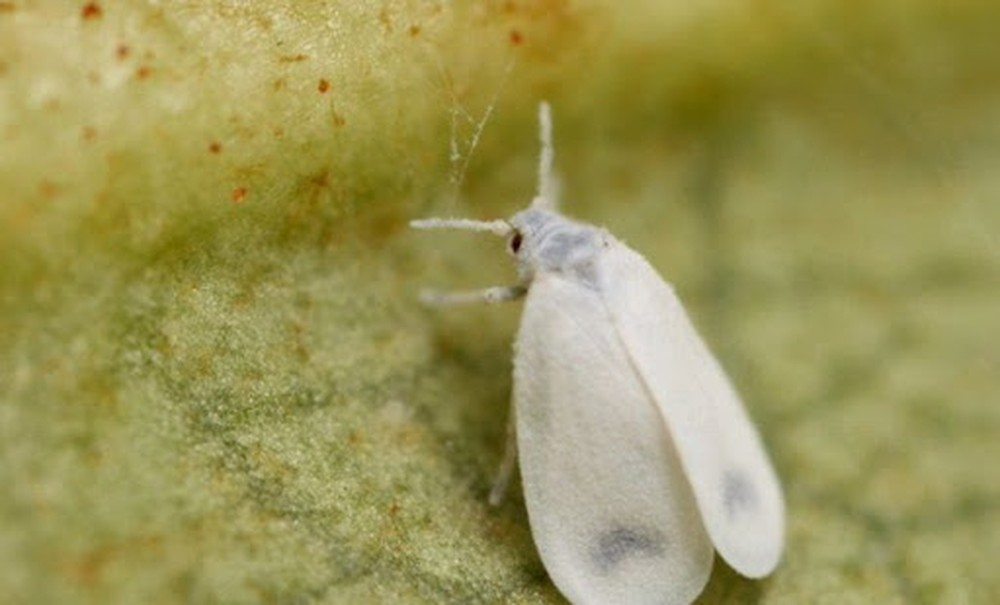Mosca Blanca: (386, 117, 834, 604)
